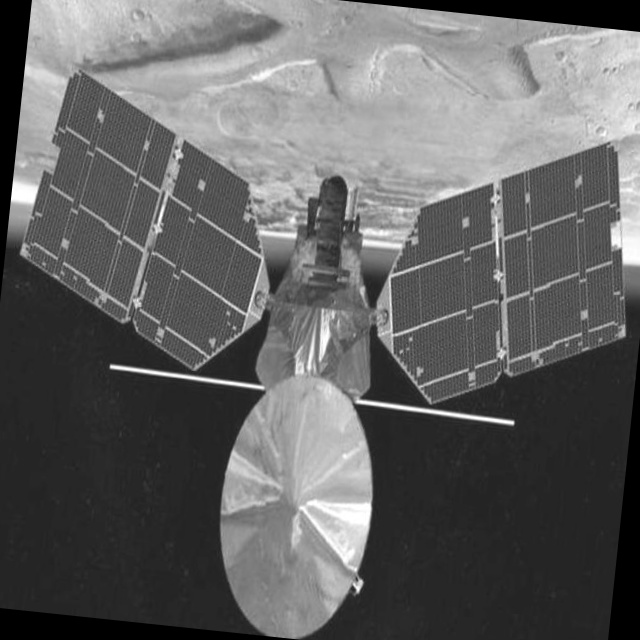satellite: (0, 52, 640, 640)
